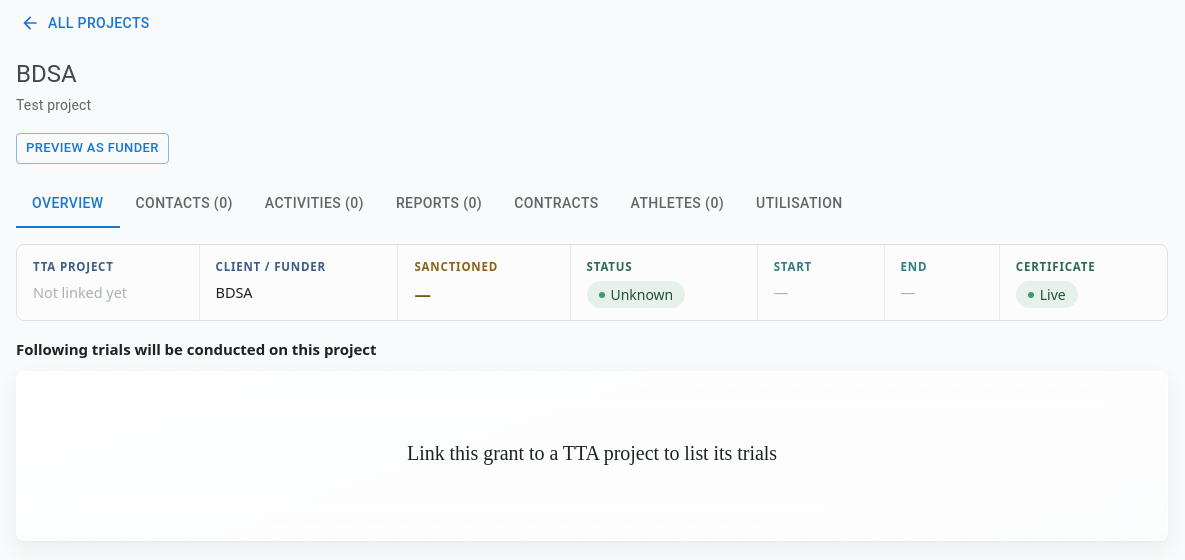
unchanged: lists that load empty still read as empty, with their counts
Expected: the heading "BDSA" is shown, [16,60,77,88]
Click the tab "Contacts (0)" at (184, 204), box [120,180,249,228]
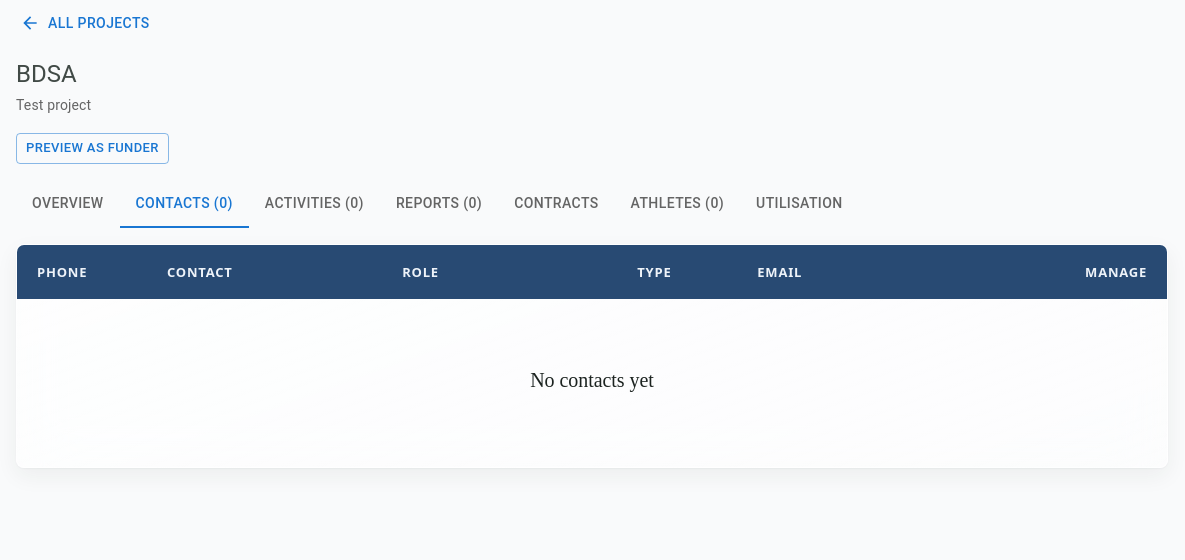
Now the heading "No contacts yet" is shown, box [530,369,654,391]
Click the tab "Activities (0)" at (314, 204), box [249,180,380,228]
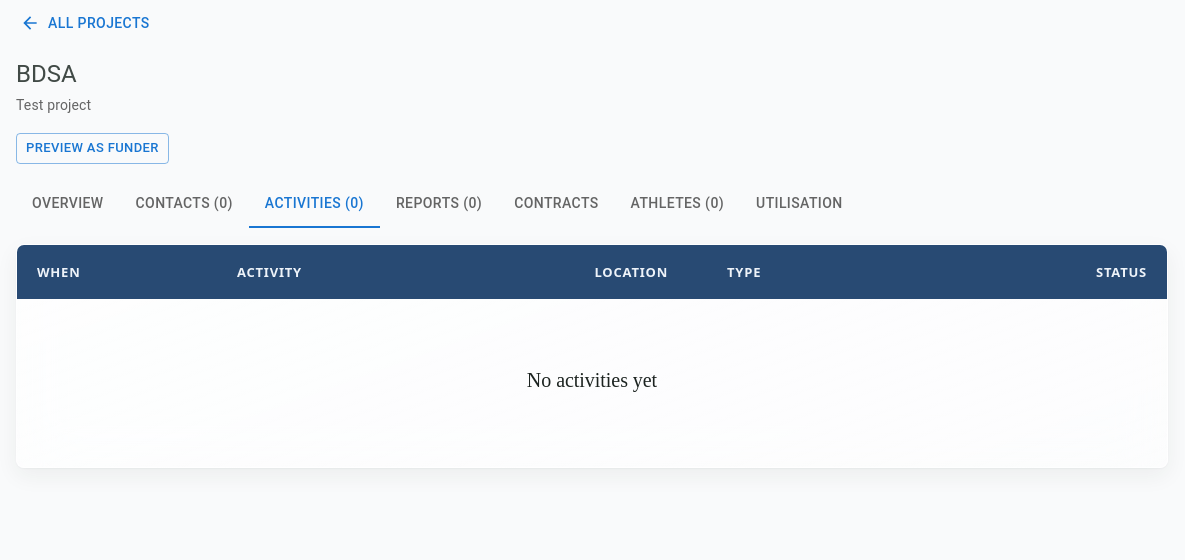
Now the heading "No activities yet" is shown, box [527,369,657,391]
Click the tab "Reports (0)" at (439, 204), box [380,180,498,228]
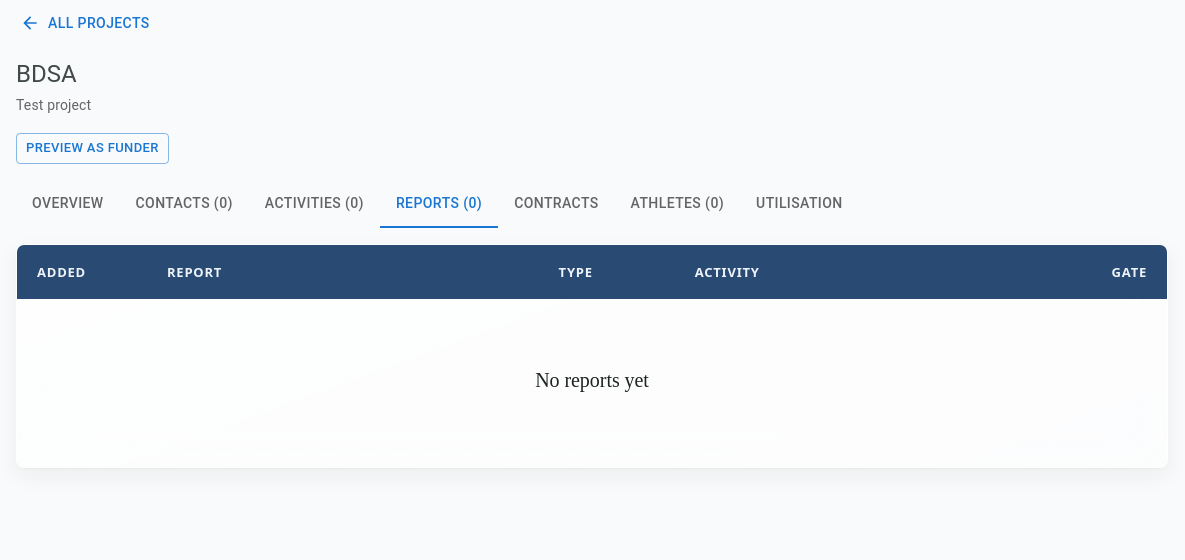
Now the heading "No reports yet" is shown, box [535,369,649,391]
